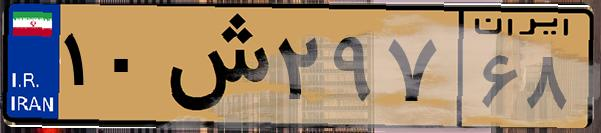0: (110, 28, 158, 98)
1: (57, 26, 110, 100)
2: (270, 28, 330, 110)
6: (475, 38, 525, 113)
7: (385, 28, 445, 110)
8: (525, 38, 570, 115)
9: (330, 28, 385, 110)
ش: (158, 12, 270, 120)
